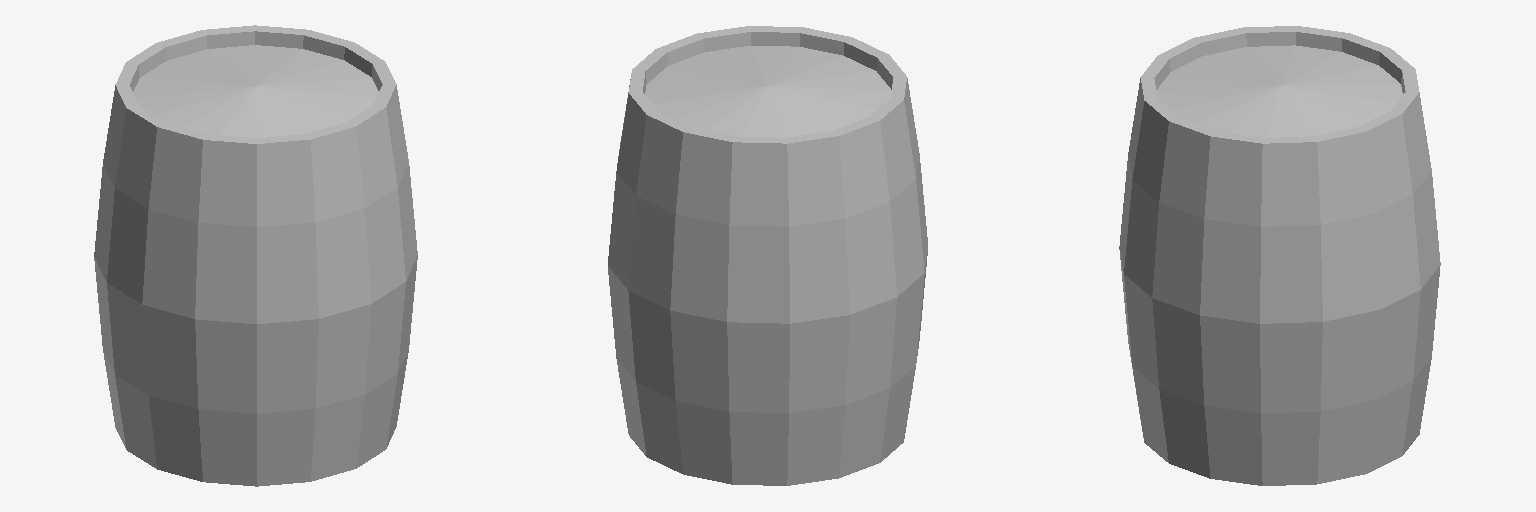
Rendered from barrel_4_005.obj.
3 views of the same model, side by side, from view 1: azimuth 30°, elevation 25°; view 2: azimuth 150°, elevation 25°; view 3: azimuth 270°, elevation 25° (orthographic).
Visible parts, largest first — view 1: Circle.005; view 2: Circle.005; view 3: Circle.005.
Boxes of the visible parts, box(x1,y1,x2,y2) form: Circle.005: box(94, 25, 417, 486); Circle.005: box(608, 26, 927, 485); Circle.005: box(1119, 26, 1440, 485).
Bounding box in the file's own units: 2.29 × 2.69 × 2.29.